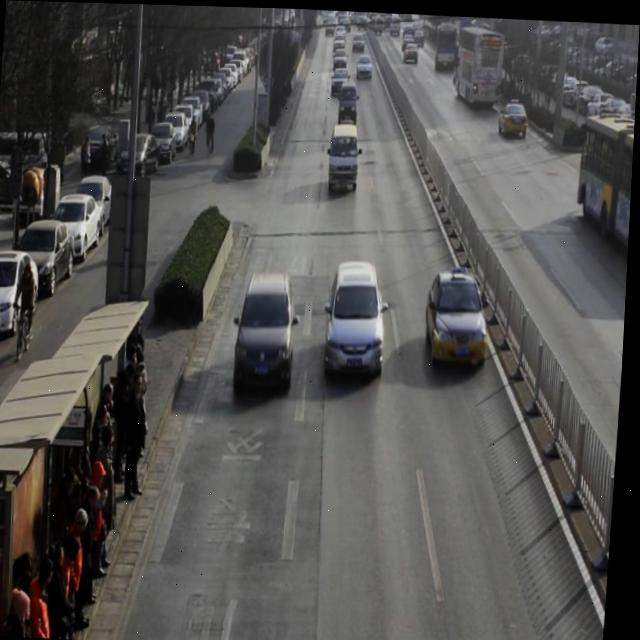car: (235, 265, 302, 395), (327, 255, 392, 375), (427, 265, 496, 366), (499, 96, 530, 134), (331, 63, 351, 96), (356, 50, 374, 78)
truck: (328, 118, 362, 193), (338, 76, 360, 123)
van: (574, 108, 636, 246), (450, 19, 502, 104)
